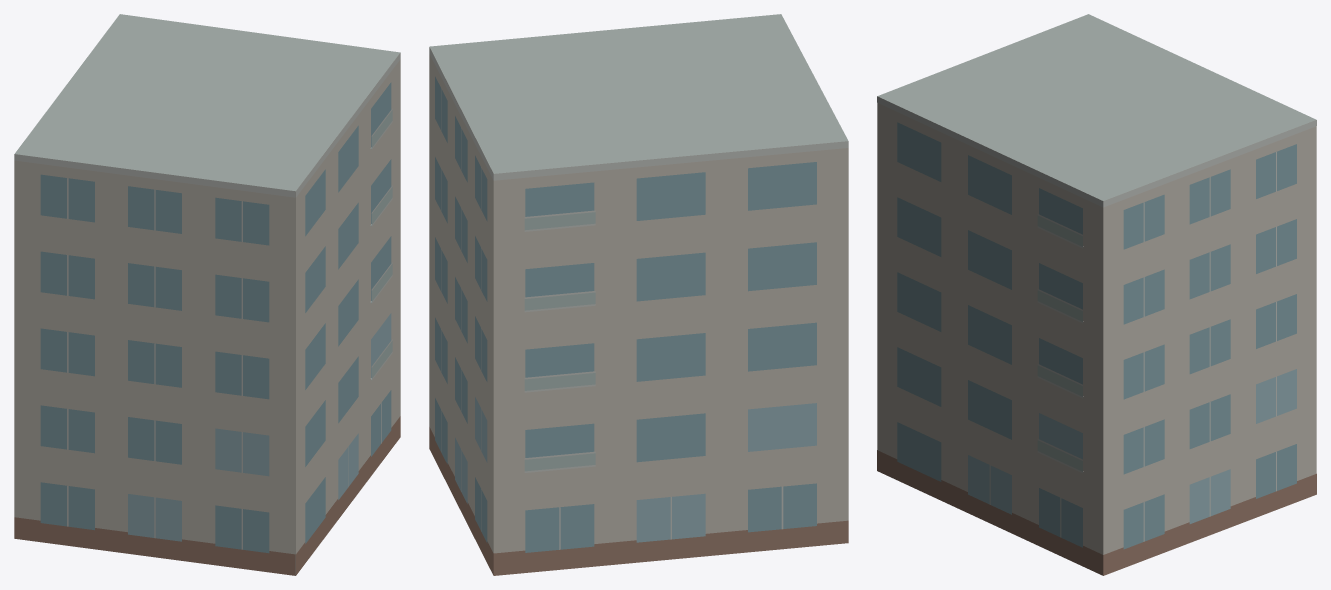
The model's file is survey-upis-32840172.glb.
The picture shows the model from 3 angles, left to right: view 1: azimuth 30°, elevation 25°; view 2: azimuth 150°, elevation 25°; view 3: azimuth 270°, elevation 25°; orthographic projection. The views are drawn at different scales.
Visible parts, largest first — view 1: survey-upis-32840172.tmp; view 2: survey-upis-32840172.tmp; view 3: survey-upis-32840172.tmp.
Boxes of the visible parts, left/top/right/bottom form: survey-upis-32840172.tmp: left=14, top=14, right=400, bottom=575; survey-upis-32840172.tmp: left=429, top=14, right=848, bottom=575; survey-upis-32840172.tmp: left=877, top=14, right=1316, bottom=575.
Size of the model in its own units: 15.43 by 14.4 by 15.32.
